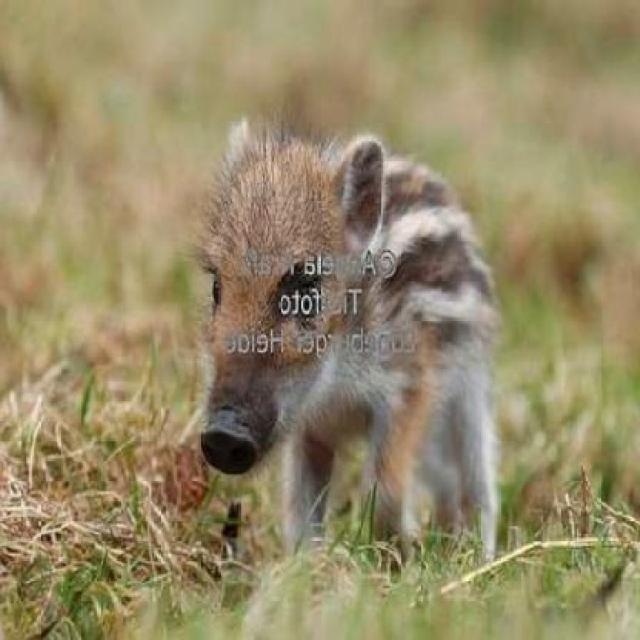Boar: (82, 109, 526, 554)
